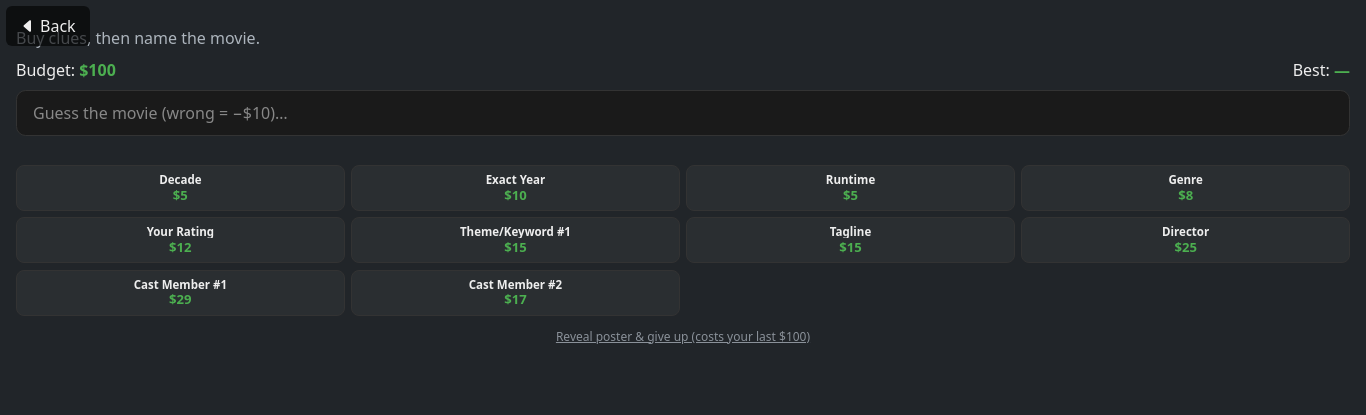
Test: ClueBudgetGame › buying a clue deducts its cost from the budget and moves it to the purchased list
Click the button with class "clue-chip" showing "Decade $5" at (180, 188), box x1=16 y1=165 x2=345 y2=211
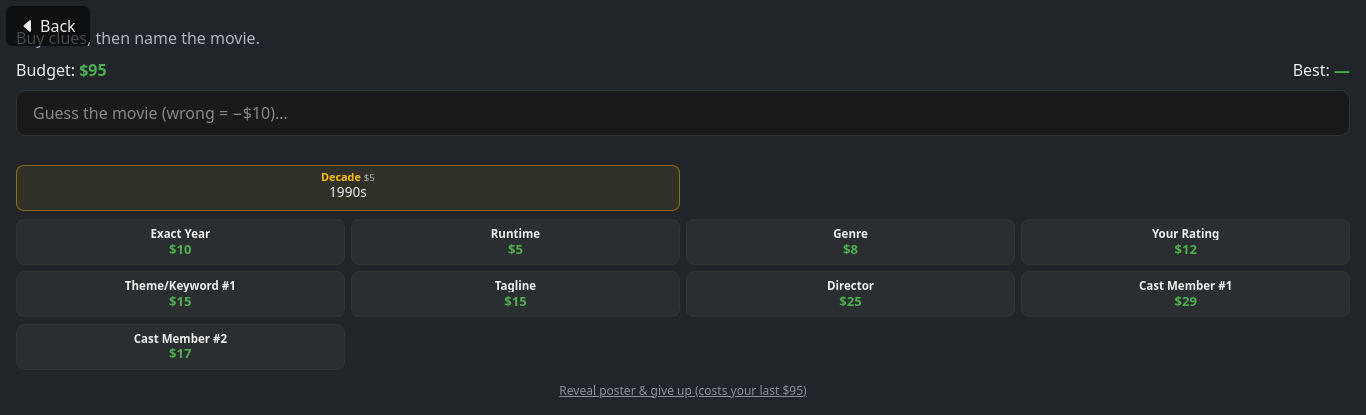
Result: the list shows "Decade" at x1=321 y1=169 x2=364 y2=184
